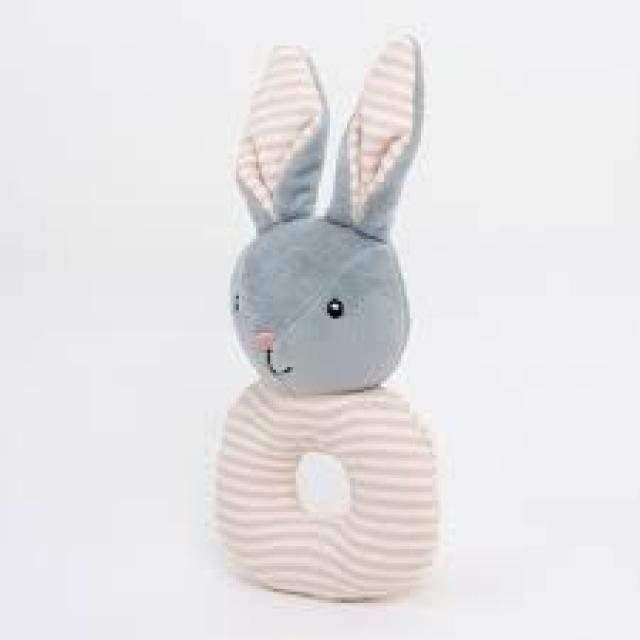soft-toy: (219, 37, 437, 602)
